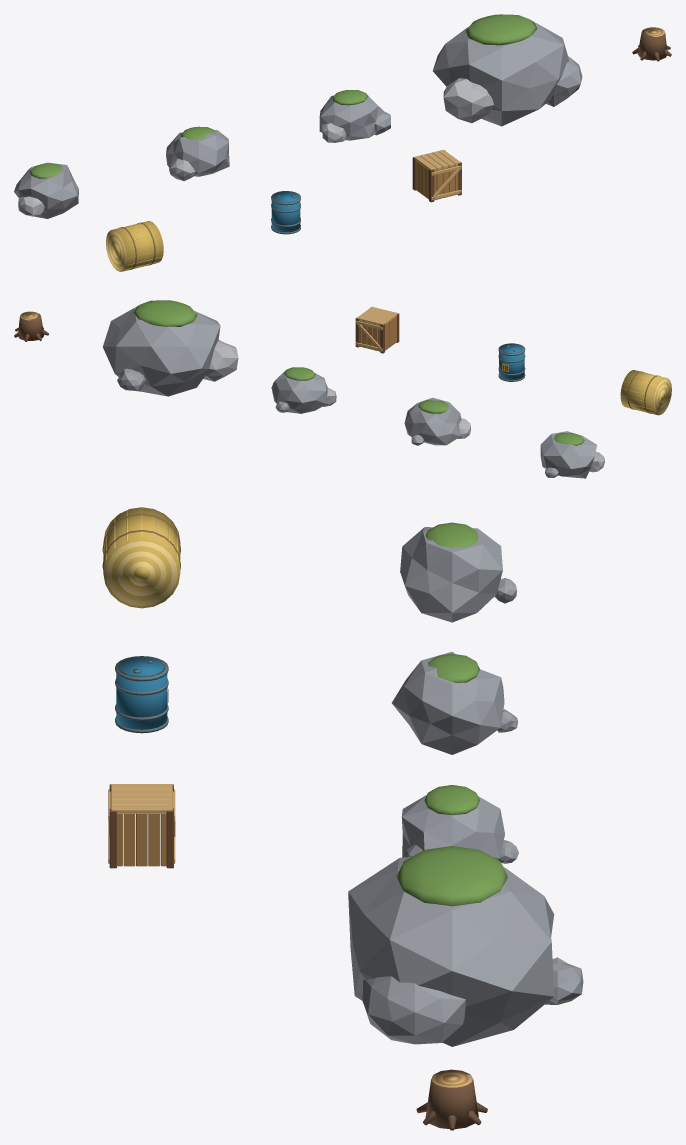
File: environment.glb
3 views of the same model, one above another, from view 1: azimuth 30°, elevation 25°; view 2: azimuth 150°, elevation 25°; view 3: azimuth 270°, elevation 25° (orthographic). The views are drawn at different scales.
Visible parts, largest first — view 1: Boulder_0.001, Rock0_0.001, Rock1_0.001, Rock2_0.001, Boulder_4.001, HayBale_0.001, Boulder_1.001, Boulder_3.001, Barrel_0.001, Stump_0.001, Rock2_4.001, Rock0_1.001 (+3 smaller); view 2: Boulder_0.001, Rock0_0.001, Rock1_0.001, Rock2_0.001, Boulder_4.001, HayBale_0.001, Boulder_1.001, Barrel_0.001, Boulder_2.001, Stump_0.001, Rock2_4.001, Rock1_3.001 (+1 smaller); view 3: Boulder_0.001, Rock1_0.001, Rock0_0.001, Boulder_3.001, Boulder_4.001, Rock2_0.001, HayBale_0.001, Barrel_0.001, Stump_0.001, Rock2_4.001, Boulder_2.001, HayBale_9.001 (+3 smaller).
Part boxes in pixels (<box>): Boulder_0.001: <box>433,14,569,126</box>; Rock0_0.001: <box>14,162,78,218</box>; Rock1_0.001: <box>166,130,229,176</box>; Rock2_0.001: <box>319,94,386,140</box>; Boulder_4.001: <box>465,14,537,45</box>; HayBale_0.001: <box>106,221,163,271</box>; Boulder_1.001: <box>443,78,493,123</box>; Boulder_3.001: <box>546,56,582,106</box>; Barrel_0.001: <box>271,201,300,232</box>; Stump_0.001: <box>637,29,666,60</box>; Rock2_4.001: <box>332,90,367,105</box>; Rock0_1.001: <box>18,196,44,216</box>; Boulder_0.001: <box>103,307,220,396</box>; Rock0_0.001: <box>540,431,596,478</box>; Rock1_0.001: <box>404,397,461,445</box>; Rock2_0.001: <box>272,371,327,413</box>; Boulder_4.001: <box>133,300,197,326</box>; HayBale_0.001: <box>620,370,671,415</box>; Boulder_1.001: <box>203,340,238,381</box>; Barrel_0.001: <box>499,352,524,380</box>; Boulder_2.001: <box>117,368,145,391</box>; Stump_0.001: <box>18,314,44,340</box>; Rock2_4.001: <box>284,367,315,380</box>; Rock1_3.001: <box>418,400,449,413</box>; Boulder_0.001: <box>348,857,554,1046</box>; Rock1_0.001: <box>392,652,504,754</box>; Rock0_0.001: <box>400,527,502,622</box>; Boulder_3.001: <box>362,976,465,1044</box>; Boulder_4.001: <box>396,846,507,906</box>; Rock2_0.001: <box>401,795,504,859</box>; HayBale_0.001: <box>103,507,180,608</box>; Barrel_0.001: <box>116,674,167,729</box>; Stump_0.001: <box>425,1069,478,1129</box>; Rock2_4.001: <box>424,785,479,815</box>; Boulder_2.001: <box>545,957,583,1004</box>; HayBale_9.001: <box>106,541,177,606</box>.
Size of the model in its own units: 21.69 by 2.94 by 7.75.
